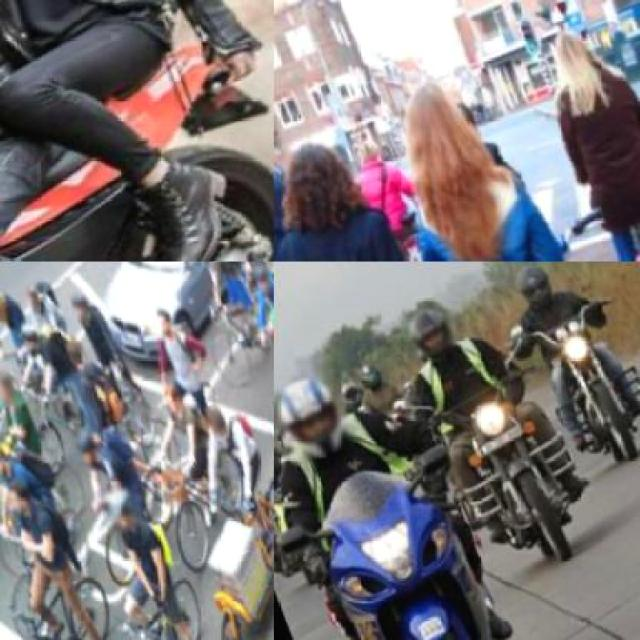With Helmet: (274, 364, 368, 470), (400, 297, 465, 361), (96, 474, 153, 538), (509, 261, 566, 317), (69, 420, 114, 475), (355, 354, 390, 394), (68, 286, 98, 323), (248, 262, 272, 300)
Without Helmet: (378, 52, 500, 192), (274, 113, 378, 244), (529, 5, 608, 92), (144, 288, 190, 344), (0, 471, 46, 522), (0, 363, 28, 411), (207, 399, 236, 436), (0, 275, 12, 318)
